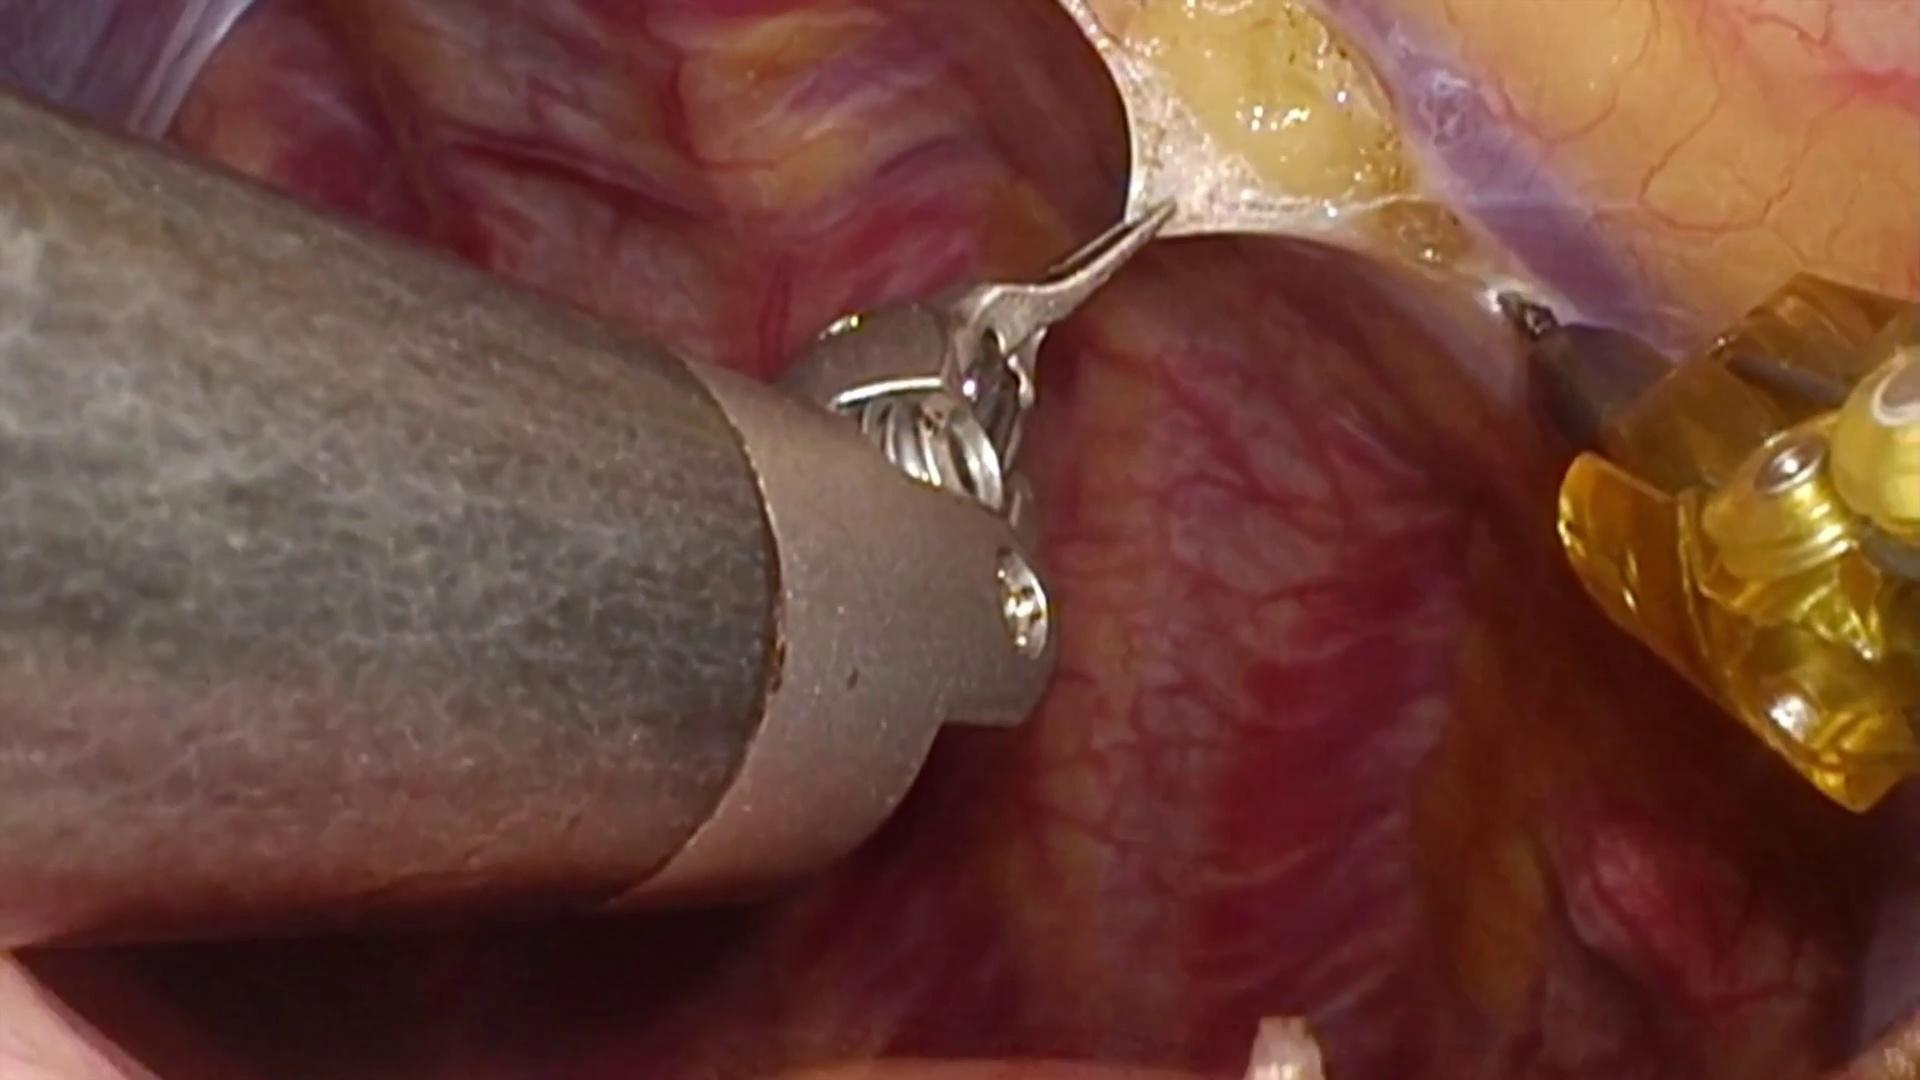Cautery_Spatula: (1484, 273, 1683, 447), (1480, 274, 1576, 360)
Debakey: (928, 186, 1184, 390)
